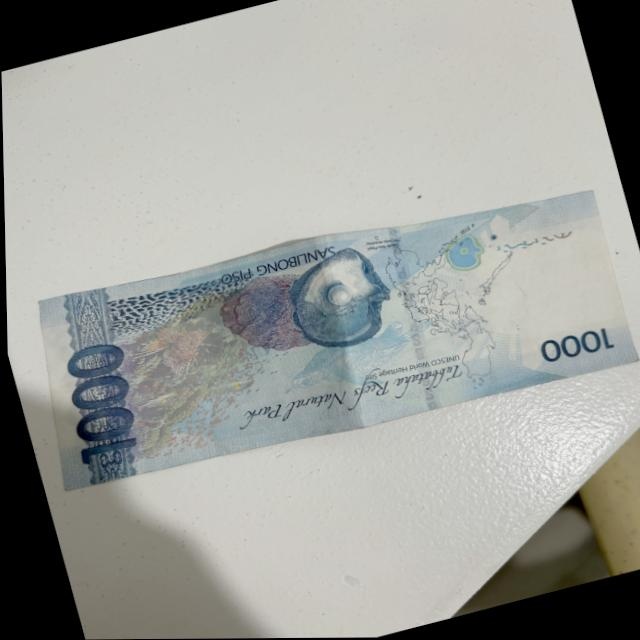1000_pearl: (271, 237, 405, 359)
1000_pearl_watermark: (437, 225, 495, 278)
